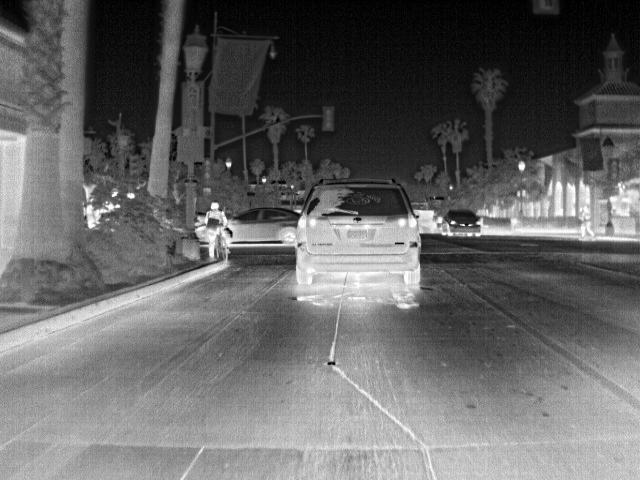car: (295, 178, 427, 289), (226, 204, 302, 246), (438, 208, 483, 239)
person: (205, 200, 231, 258), (579, 204, 597, 238)
